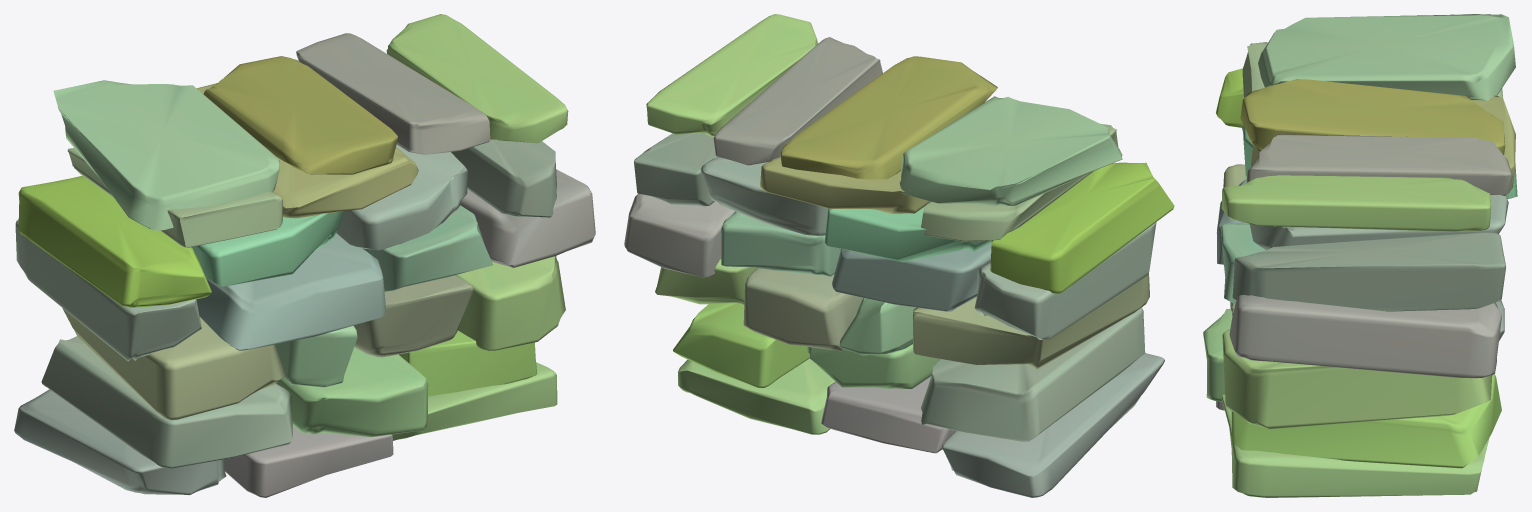
Rendered from SM_Scar_C.glb.
The picture shows the model from 3 angles, left to right: view 1: azimuth 30°, elevation 25°; view 2: azimuth 150°, elevation 25°; view 3: azimuth 270°, elevation 25°; orthographic projection. The views are drawn at different scales.
Visible parts, largest first — view 1: SM_Scar_C; view 2: SM_Scar_C; view 3: SM_Scar_C.
Boxes of the visible parts, <box> form: SM_Scar_C: <box>14,14,595,497</box>; SM_Scar_C: <box>624,14,1174,497</box>; SM_Scar_C: <box>1203,14,1517,497</box>.
Size of the model in its own units: 6.01 by 3.98 by 3.5.
